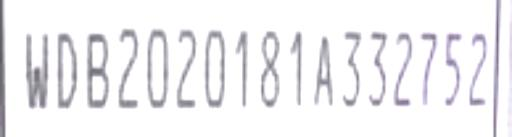letter: (15, 20, 57, 109), (461, 26, 503, 109), (253, 20, 287, 115), (304, 26, 342, 109), (142, 23, 176, 112), (50, 26, 86, 109), (111, 23, 145, 110), (282, 25, 316, 112), (412, 26, 448, 107), (385, 28, 421, 109), (435, 28, 471, 109), (337, 29, 371, 112), (200, 25, 232, 112), (172, 21, 202, 112), (364, 28, 398, 107), (84, 29, 116, 112), (230, 28, 258, 107)
